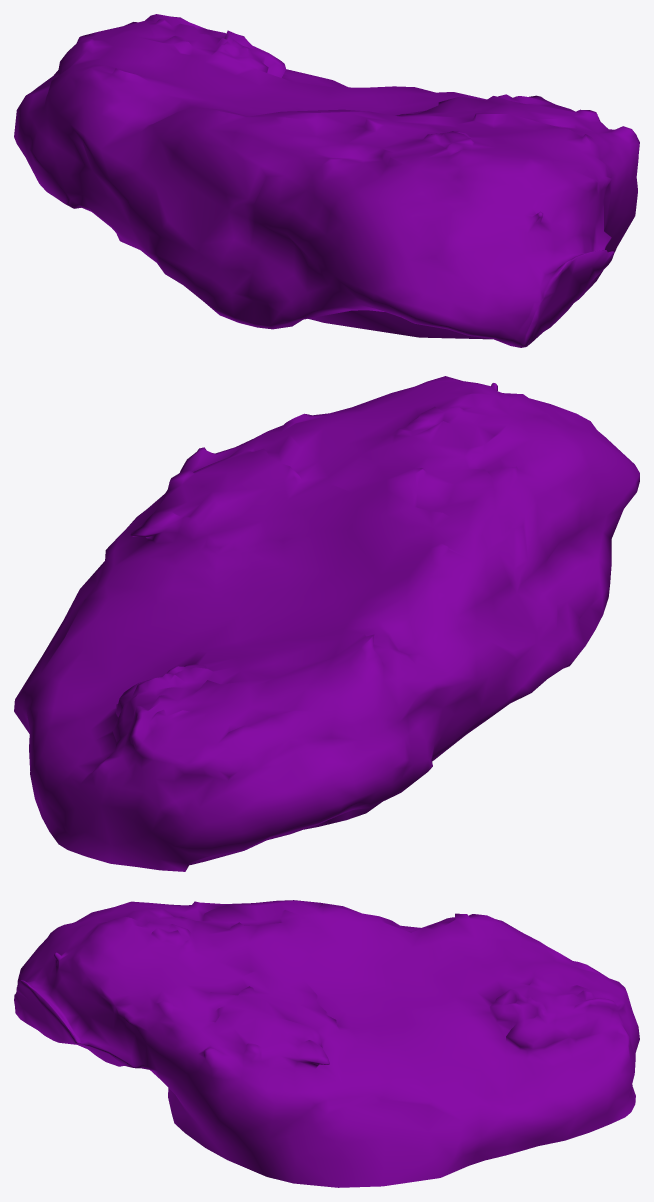
The model's file is MSH_Rocks_Boulder_08.FBX.
The picture shows the model from 3 angles, top to bottom: view 1: azimuth 30°, elevation 25°; view 2: azimuth 150°, elevation 25°; view 3: azimuth 270°, elevation 25°; orthographic projection. The views are drawn at different scales.
Visible parts, largest first — view 1: MESH_LOD0; view 2: MESH_LOD0; view 3: MESH_LOD0.
Part boxes in pixels (x1,y1,x2,y2): MESH_LOD0: (14,14,639,347); MESH_LOD0: (14,376,639,871); MESH_LOD0: (14,900,639,1187).
Size of what is drawn, in the model's own units: 69.3 by 33.16 by 110.
